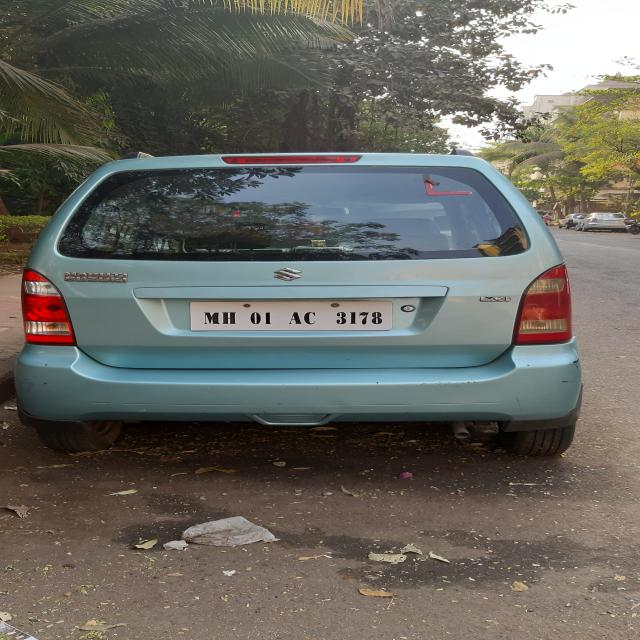Number-Plate: (196, 301, 396, 329)
